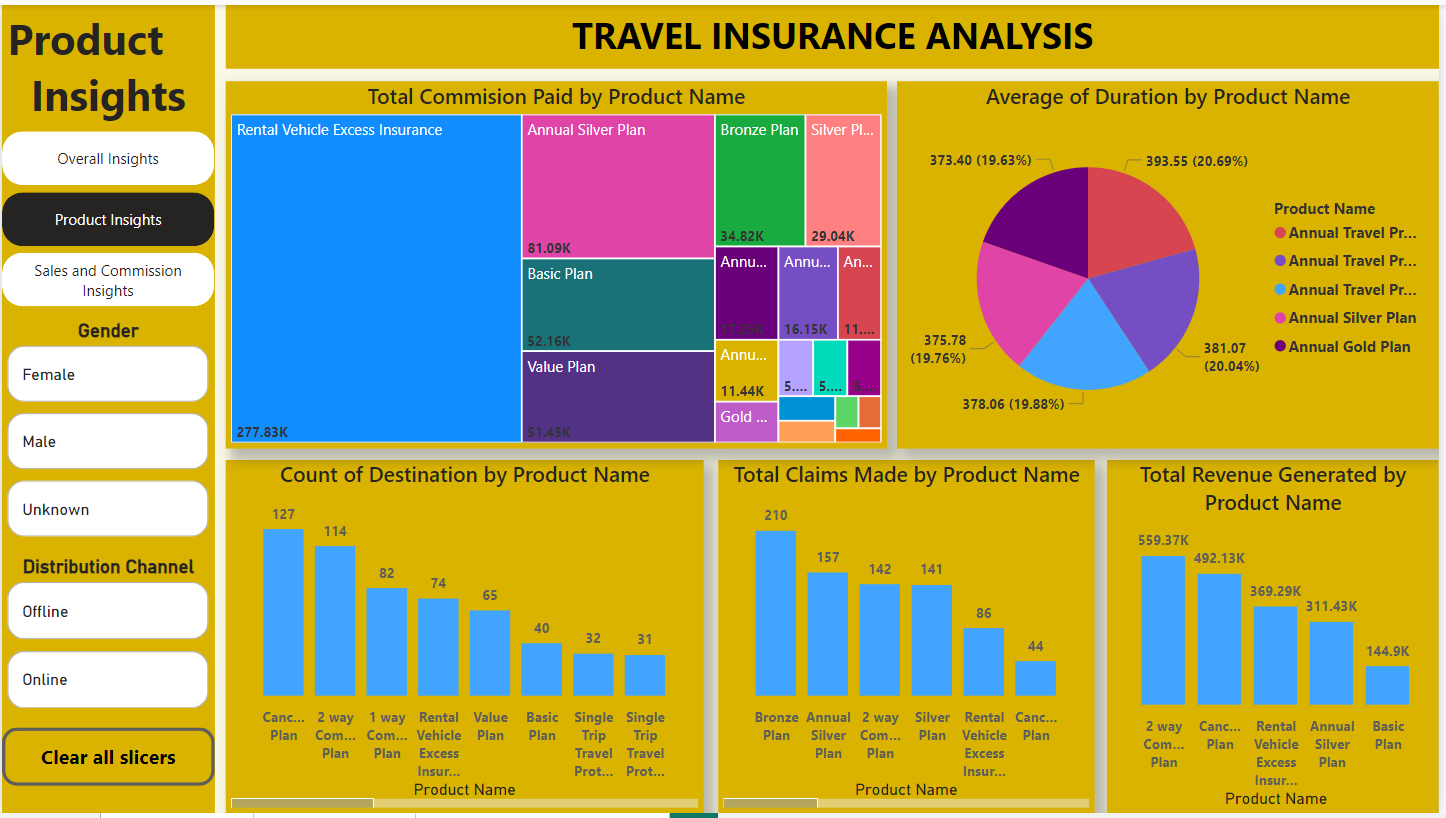

What the dashboard file says about the page in this screenshot:
{"tool":"powerbi","page":{"name":"Product Insights","canvas":[1280,720],"ordinal":1},"visuals":[{"type":"textbox","box":[0,0,189.4,720.2],"z":0},{"type":"advancedSlicerVisual","fields":{"Values":["travel insurance.Gender"]},"box":[0,279.9,189.4,200.3],"z":1000},{"type":"advancedSlicerVisual","fields":{"Values":["travel insurance.Distribution Channel"]},"box":[0,489.8,189.4,142.4],"z":2000},{"type":"clusteredColumnChart","fields":{"Category":["travel insurance.Product Name"],"Y":["Count(travel insurance.Destination)"]},"box":[199.1,405.4,425.9,314.9],"z":3000},{"type":"clusteredColumnChart","fields":{"Y":["travel insurance.Total Claims Made"],"Category":["travel insurance.Product Name"]},"box":[638.2,405.4,335.4,314.9],"z":4000},{"type":"treemap","fields":{"Values":["travel insurance.Total Commision Paid"],"Group":["travel insurance.Product Name"]},"box":[199.1,67.6,588.7,326.9],"z":5000},{"type":"clusteredColumnChart","fields":{"Category":["travel insurance.Product Name"],"Y":["travel insurance.Total Revenue Generated"]},"box":[984.5,405.4,295.6,314.9],"z":6000},{"type":"pieChart","fields":{"Category":["travel insurance.Product Name"],"Y":["Avg(travel insurance.Duration)"]},"box":[797,67.9,483.1,326.2],"z":7000},{"type":"textbox","box":[199.1,0,1081,56.7],"z":8000},{"type":"actionButton","box":[0,643,189.4,51.9],"z":9000},{"type":"pageNavigator","box":[0,112.2,189.4,158],"z":10000}]}

Visuals, with their boxes in screenshot pixels (x1, y1, x2, y2), scaled from the page's 1280x720 canvas onto the 1446x818 screenshot:
textbox: region(0, 0, 214, 817)
advancedSlicerVisual - travel insurance.Gender: region(0, 318, 214, 546)
advancedSlicerVisual - travel insurance.Distribution Channel: region(0, 556, 214, 718)
clusteredColumnChart - travel insurance.Product Name x Count(travel insurance.Destination): region(225, 461, 706, 817)
clusteredColumnChart - travel insurance.Total Claims Made x travel insurance.Product Name: region(721, 461, 1100, 817)
treemap - travel insurance.Total Commision Paid x travel insurance.Product Name: region(225, 77, 890, 448)
clusteredColumnChart - travel insurance.Product Name x travel insurance.Total Revenue Generated: region(1112, 461, 1445, 817)
pieChart - travel insurance.Product Name x Avg(travel insurance.Duration): region(900, 77, 1445, 448)
textbox: region(225, 0, 1445, 64)
actionButton: region(0, 731, 214, 789)
pageNavigator: region(0, 127, 214, 307)
